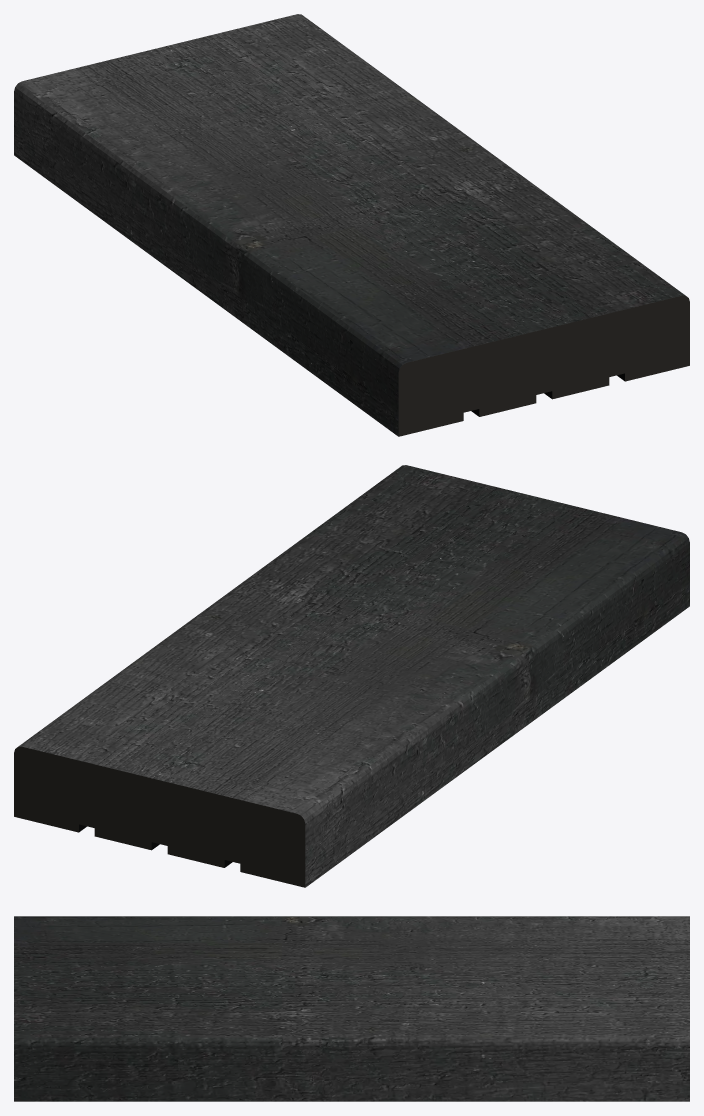
The model's file is spruce-terrace-rectangular-carbon-light.glb.
The picture shows the model from 3 angles, top to bottom: view 1: azimuth 30°, elevation 25°; view 2: azimuth 150°, elevation 25°; view 3: azimuth 270°, elevation 25°; orthographic projection. The views are drawn at different scales.
Visible parts, largest first — view 1: Staciakampis; view 2: Staciakampis; view 3: Staciakampis.
Part boxes in pixels (x1=…): Staciakampis: x1=14, y1=14, x2=689, y2=436; Staciakampis: x1=14, y1=465, x2=689, y2=887; Staciakampis: x1=14, y1=916, x2=689, y2=1101.
Bounding box in the file's own units: 0.0733 × 0.0173 × 0.1675.
Materials: 3 (1 with a texture image).
